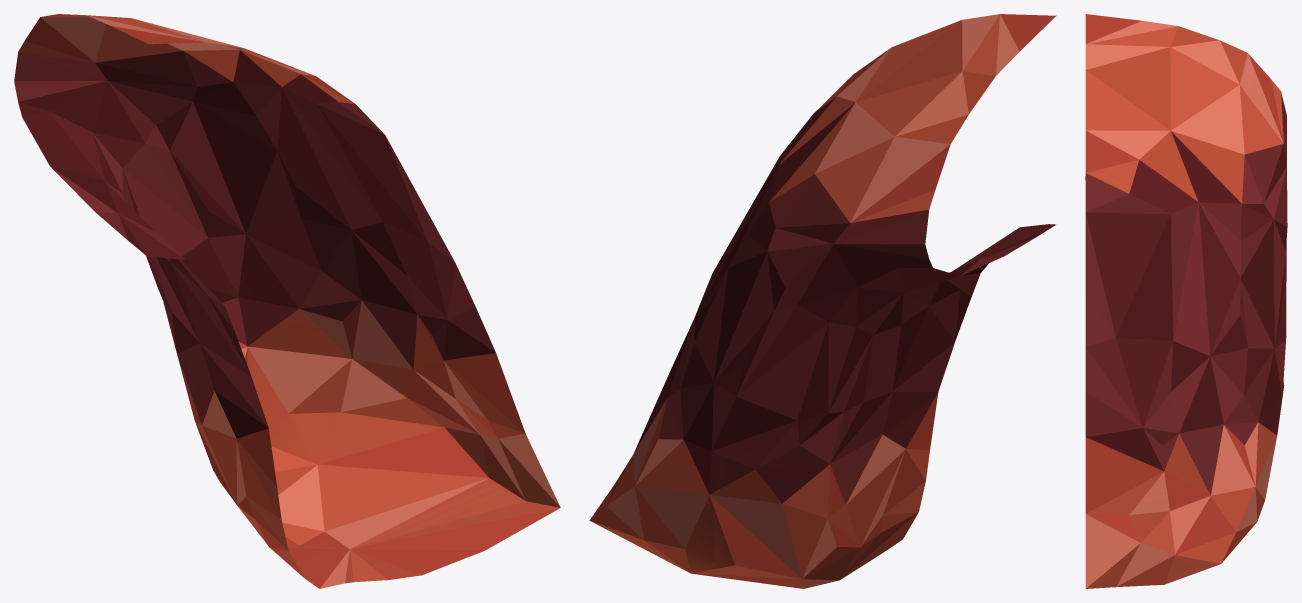
File: Tunnel_Corner_Piece_R_Back.fbx
3 views of the same model, side by side, from view 1: azimuth 30°, elevation 25°; view 2: azimuth 150°, elevation 25°; view 3: azimuth 270°, elevation 25° (orthographic). The views are drawn at different scales.
Visible parts, largest first — view 1: polySurface19; view 2: polySurface19; view 3: polySurface19.
Part boxes in pixels (left/top/right/bottom): polySurface19: left=14, top=14, right=560, bottom=588; polySurface19: left=589, top=14, right=1056, bottom=588; polySurface19: left=1085, top=14, right=1287, bottom=588.
Bounding box in the file's own units: 617 × 854 × 348.
